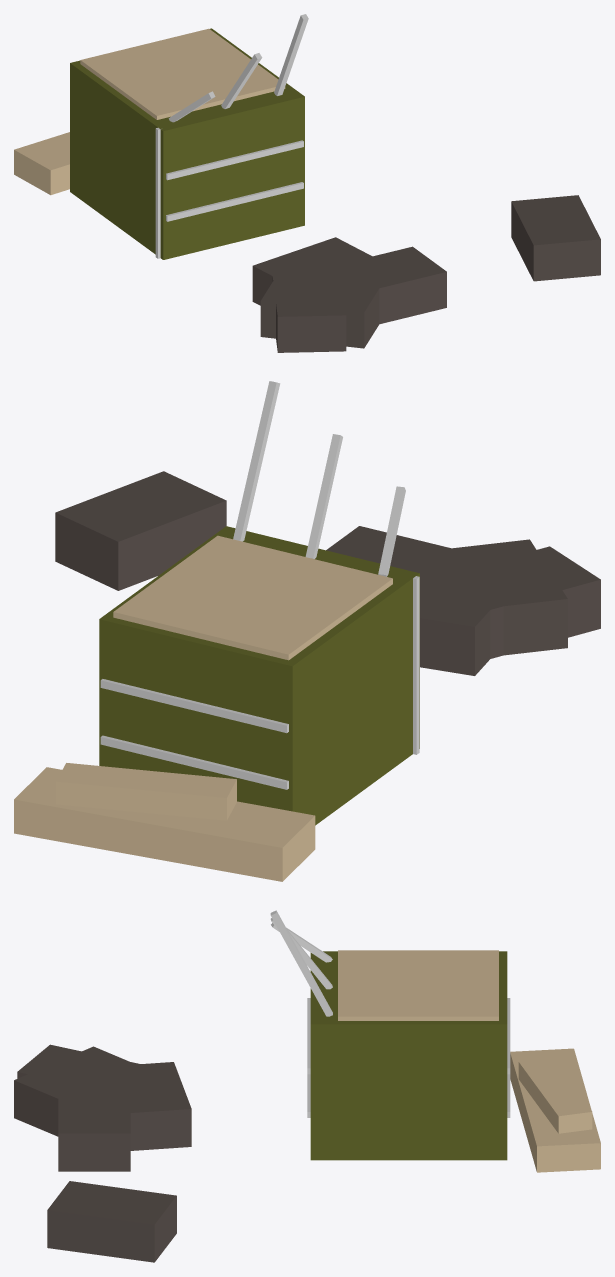
The model's file is SM_HescoCorto1_v1_Geotextil_e2_MuyDanado_LOD0.fbx.
3 views of the same model, one above another, from view 1: azimuth 30°, elevation 25°; view 2: azimuth 150°, elevation 25°; view 3: azimuth 270°, elevation 25° (orthographic). The views are drawn at different scales.
Visible parts, largest first — view 1: SM_hesco_piezas_v46_LOD0; view 2: SM_hesco_piezas_v46_LOD0; view 3: SM_hesco_piezas_v46_LOD0.
Boxes of the visible parts, x1=… form: SM_hesco_piezas_v46_LOD0: x1=14, y1=14, x2=600, y2=352; SM_hesco_piezas_v46_LOD0: x1=14, y1=381, x2=600, y2=881; SM_hesco_piezas_v46_LOD0: x1=14, y1=910, x2=600, y2=1262.
Size of the model in its own units: 2.76 by 1.64 by 3.64.
